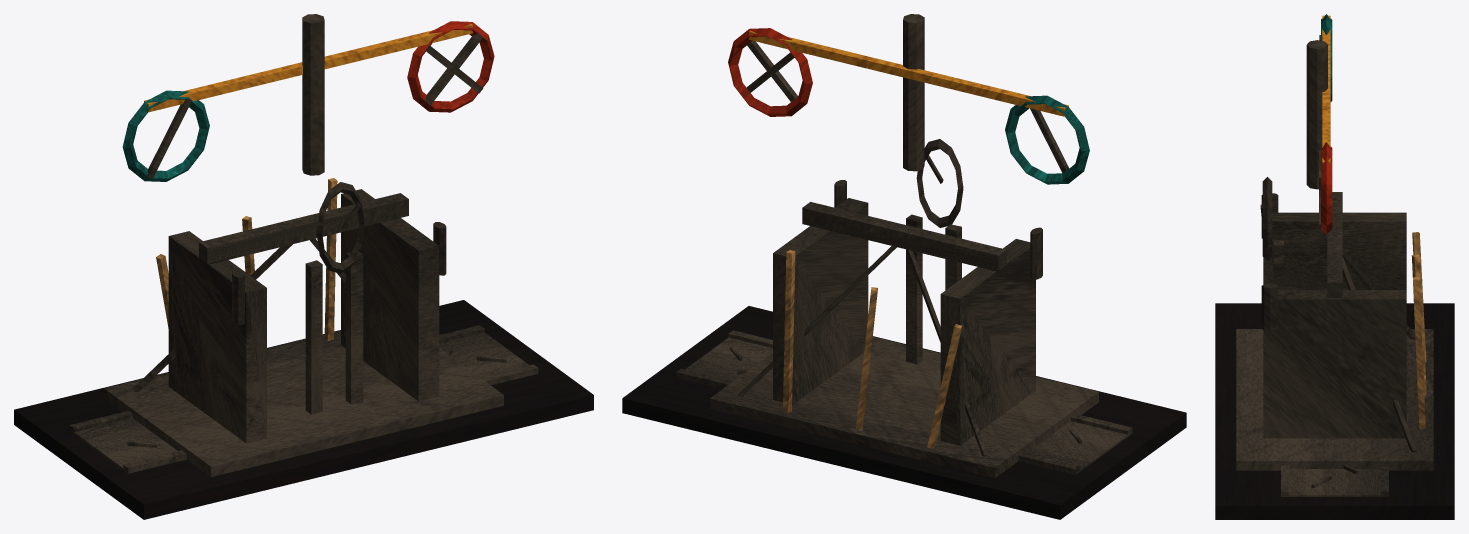
The model's file is canal-segment-c-marker.glb.
3 renders of one model, left to right at view 1: azimuth 30°, elevation 25°; view 2: azimuth 150°, elevation 25°; view 3: azimuth 270°, elevation 25°, orthographic. The views are drawn at different scales.
Parts seen in each view (by area): view 1: canal-segment-c-marker; view 2: canal-segment-c-marker; view 3: canal-segment-c-marker.
Part boxes in pixels (left/top/right/bottom): canal-segment-c-marker: left=14, top=14, right=593, bottom=519; canal-segment-c-marker: left=622, top=14, right=1186, bottom=519; canal-segment-c-marker: left=1215, top=14, right=1454, bottom=519.
Size of the model in its own units: 6.8 by 5.86 by 3.4.
1 material, 1 textured.
